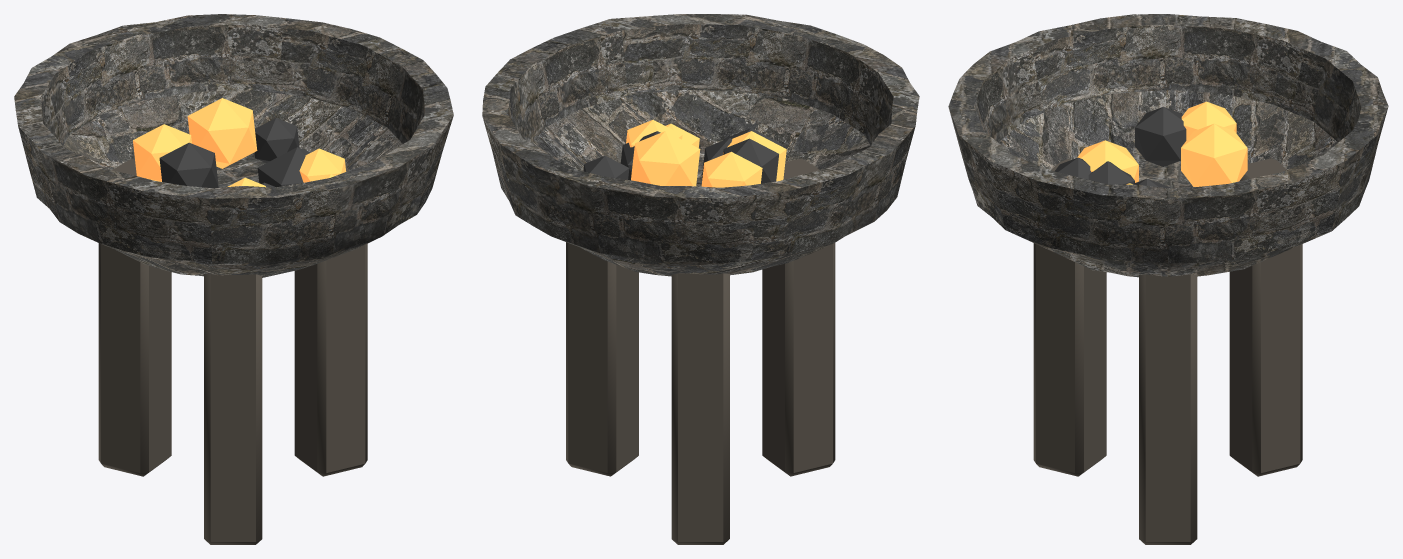
File: ritual-brazier-v01.glb
3 views of the same model, side by side, from view 1: azimuth 30°, elevation 25°; view 2: azimuth 150°, elevation 25°; view 3: azimuth 270°, elevation 25° (orthographic).
Parts seen in each view (by area): view 1: ritual-brazier; view 2: ritual-brazier; view 3: ritual-brazier.
Boxes of the visible parts, x1,y1,x2,y2 form: ritual-brazier: (14, 14, 453, 544); ritual-brazier: (482, 14, 919, 544); ritual-brazier: (948, 14, 1388, 544).
Bounding box in the file's own units: 1.36 × 1.31 × 1.36.
Materials: 3 (1 with a texture image).
